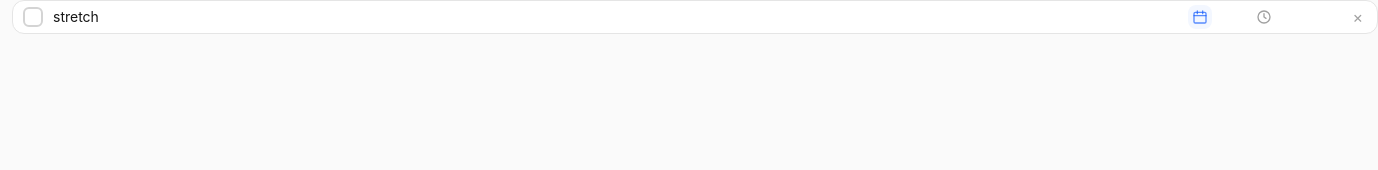
Test: the due date on a task row › is spelled out under its button once the row is clicked into (DUE-5, UI-27)
Click the list item: (695, 17) [12,0,1377,34]
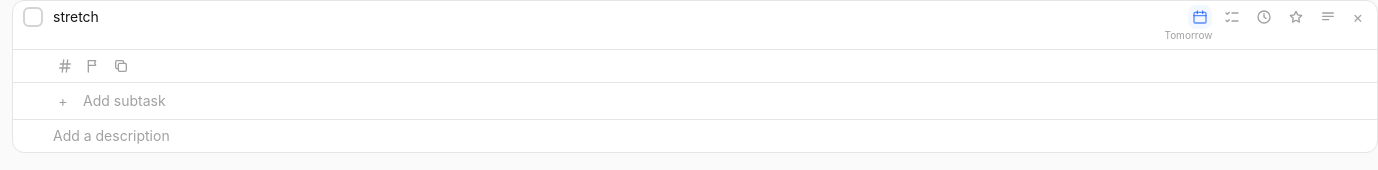
Now the text "Tomorrow" is shown, box [1164,29,1212,41]
